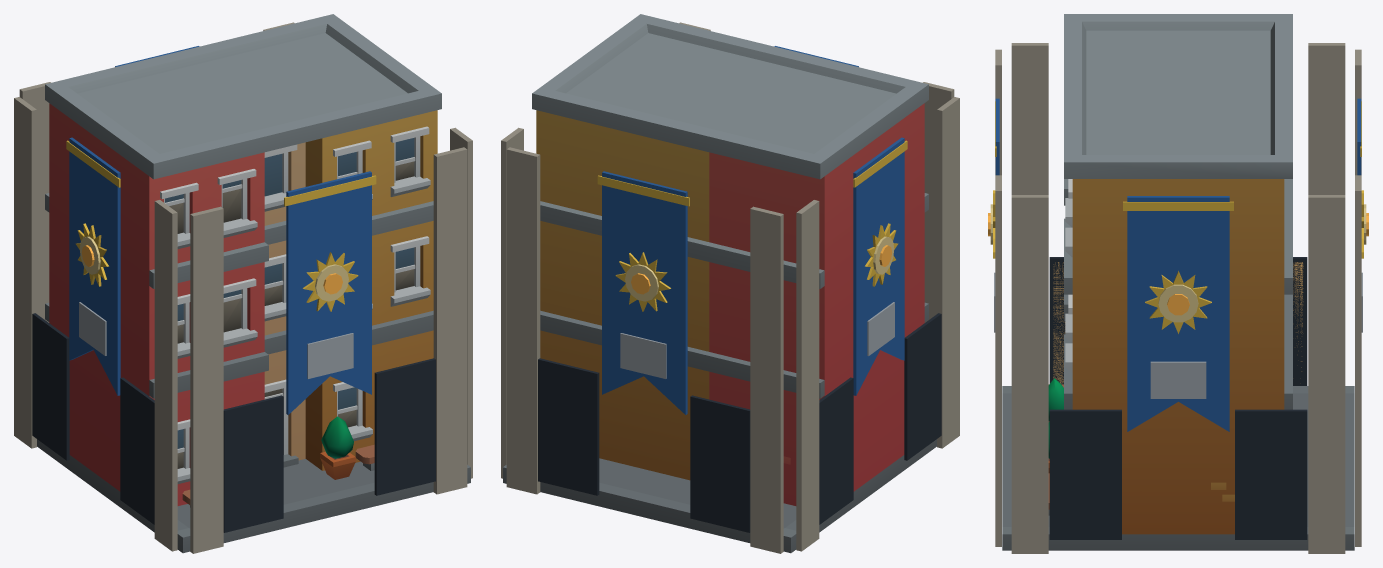
File: wall_b.fbx
3 renders of one model, left to right at view 1: azimuth 30°, elevation 25°; view 2: azimuth 150°, elevation 25°; view 3: azimuth 270°, elevation 25°, orthographic. The views are drawn at different scales.
Visible parts, largest first — view 1: wall_b; view 2: wall_b; view 3: wall_b.
Part boxes in pixels (left/top/right/bottom): wall_b: left=14, top=14, right=472, bottom=553; wall_b: left=501, top=14, right=959, bottom=553; wall_b: left=988, top=14, right=1368, bottom=553.
Size of the model in its own units: 4 by 4.5 by 4.
